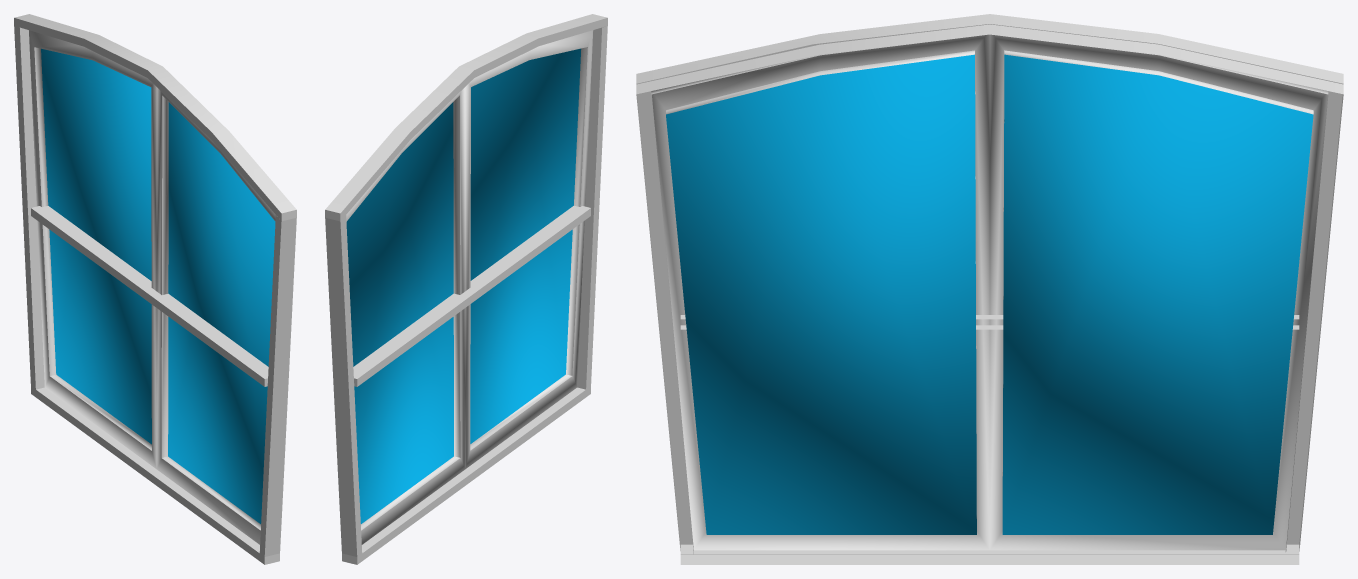
File: SM_Cartoon_Window1.fbx
The picture shows the model from 3 angles, left to right: view 1: azimuth 30°, elevation 25°; view 2: azimuth 150°, elevation 25°; view 3: azimuth 270°, elevation 25°; orthographic projection. The views are drawn at different scales.
Parts seen in each view (by area): view 1: SM_Window.005; view 2: SM_Window.005; view 3: SM_Window.005.
Boxes of the visible parts, <box> form: SM_Window.005: <box>14,14,296,564</box>; SM_Window.005: <box>325,14,607,564</box>; SM_Window.005: <box>636,14,1343,564</box>.
Bounding box in the file's own units: 4.55 × 116 × 137.
